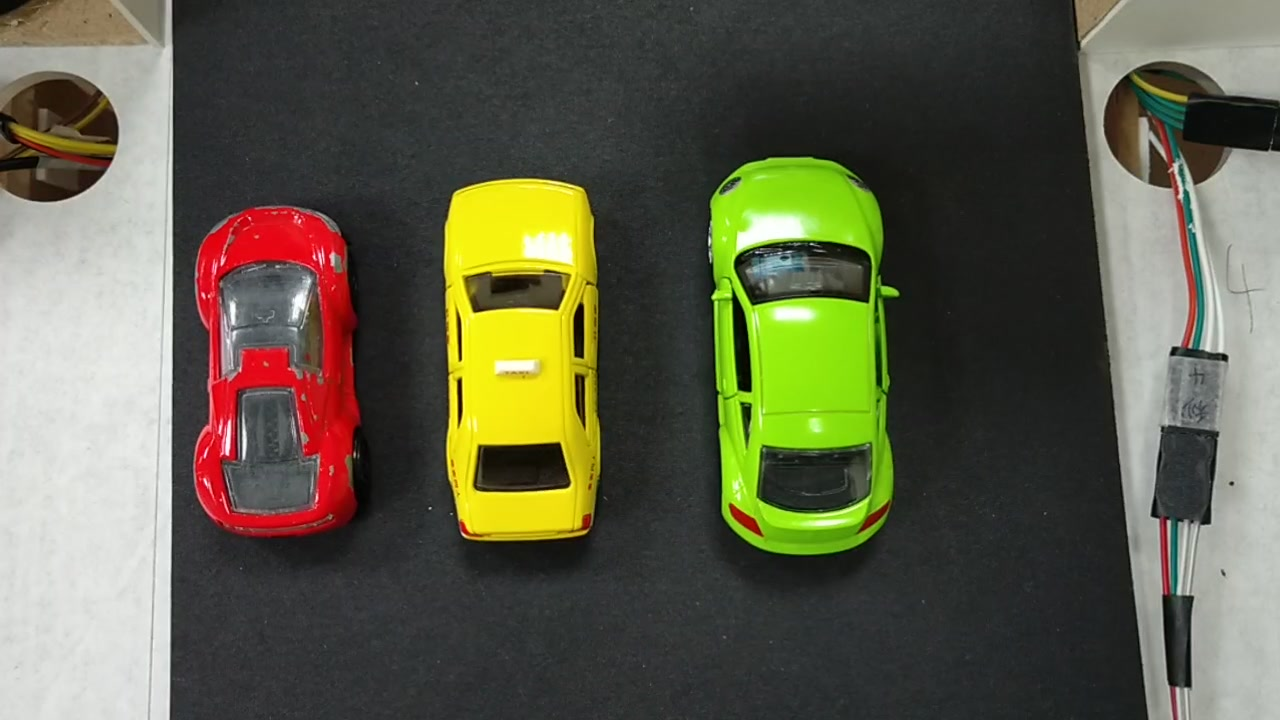car: (713, 157, 901, 553), (439, 173, 606, 549), (189, 199, 367, 540)
